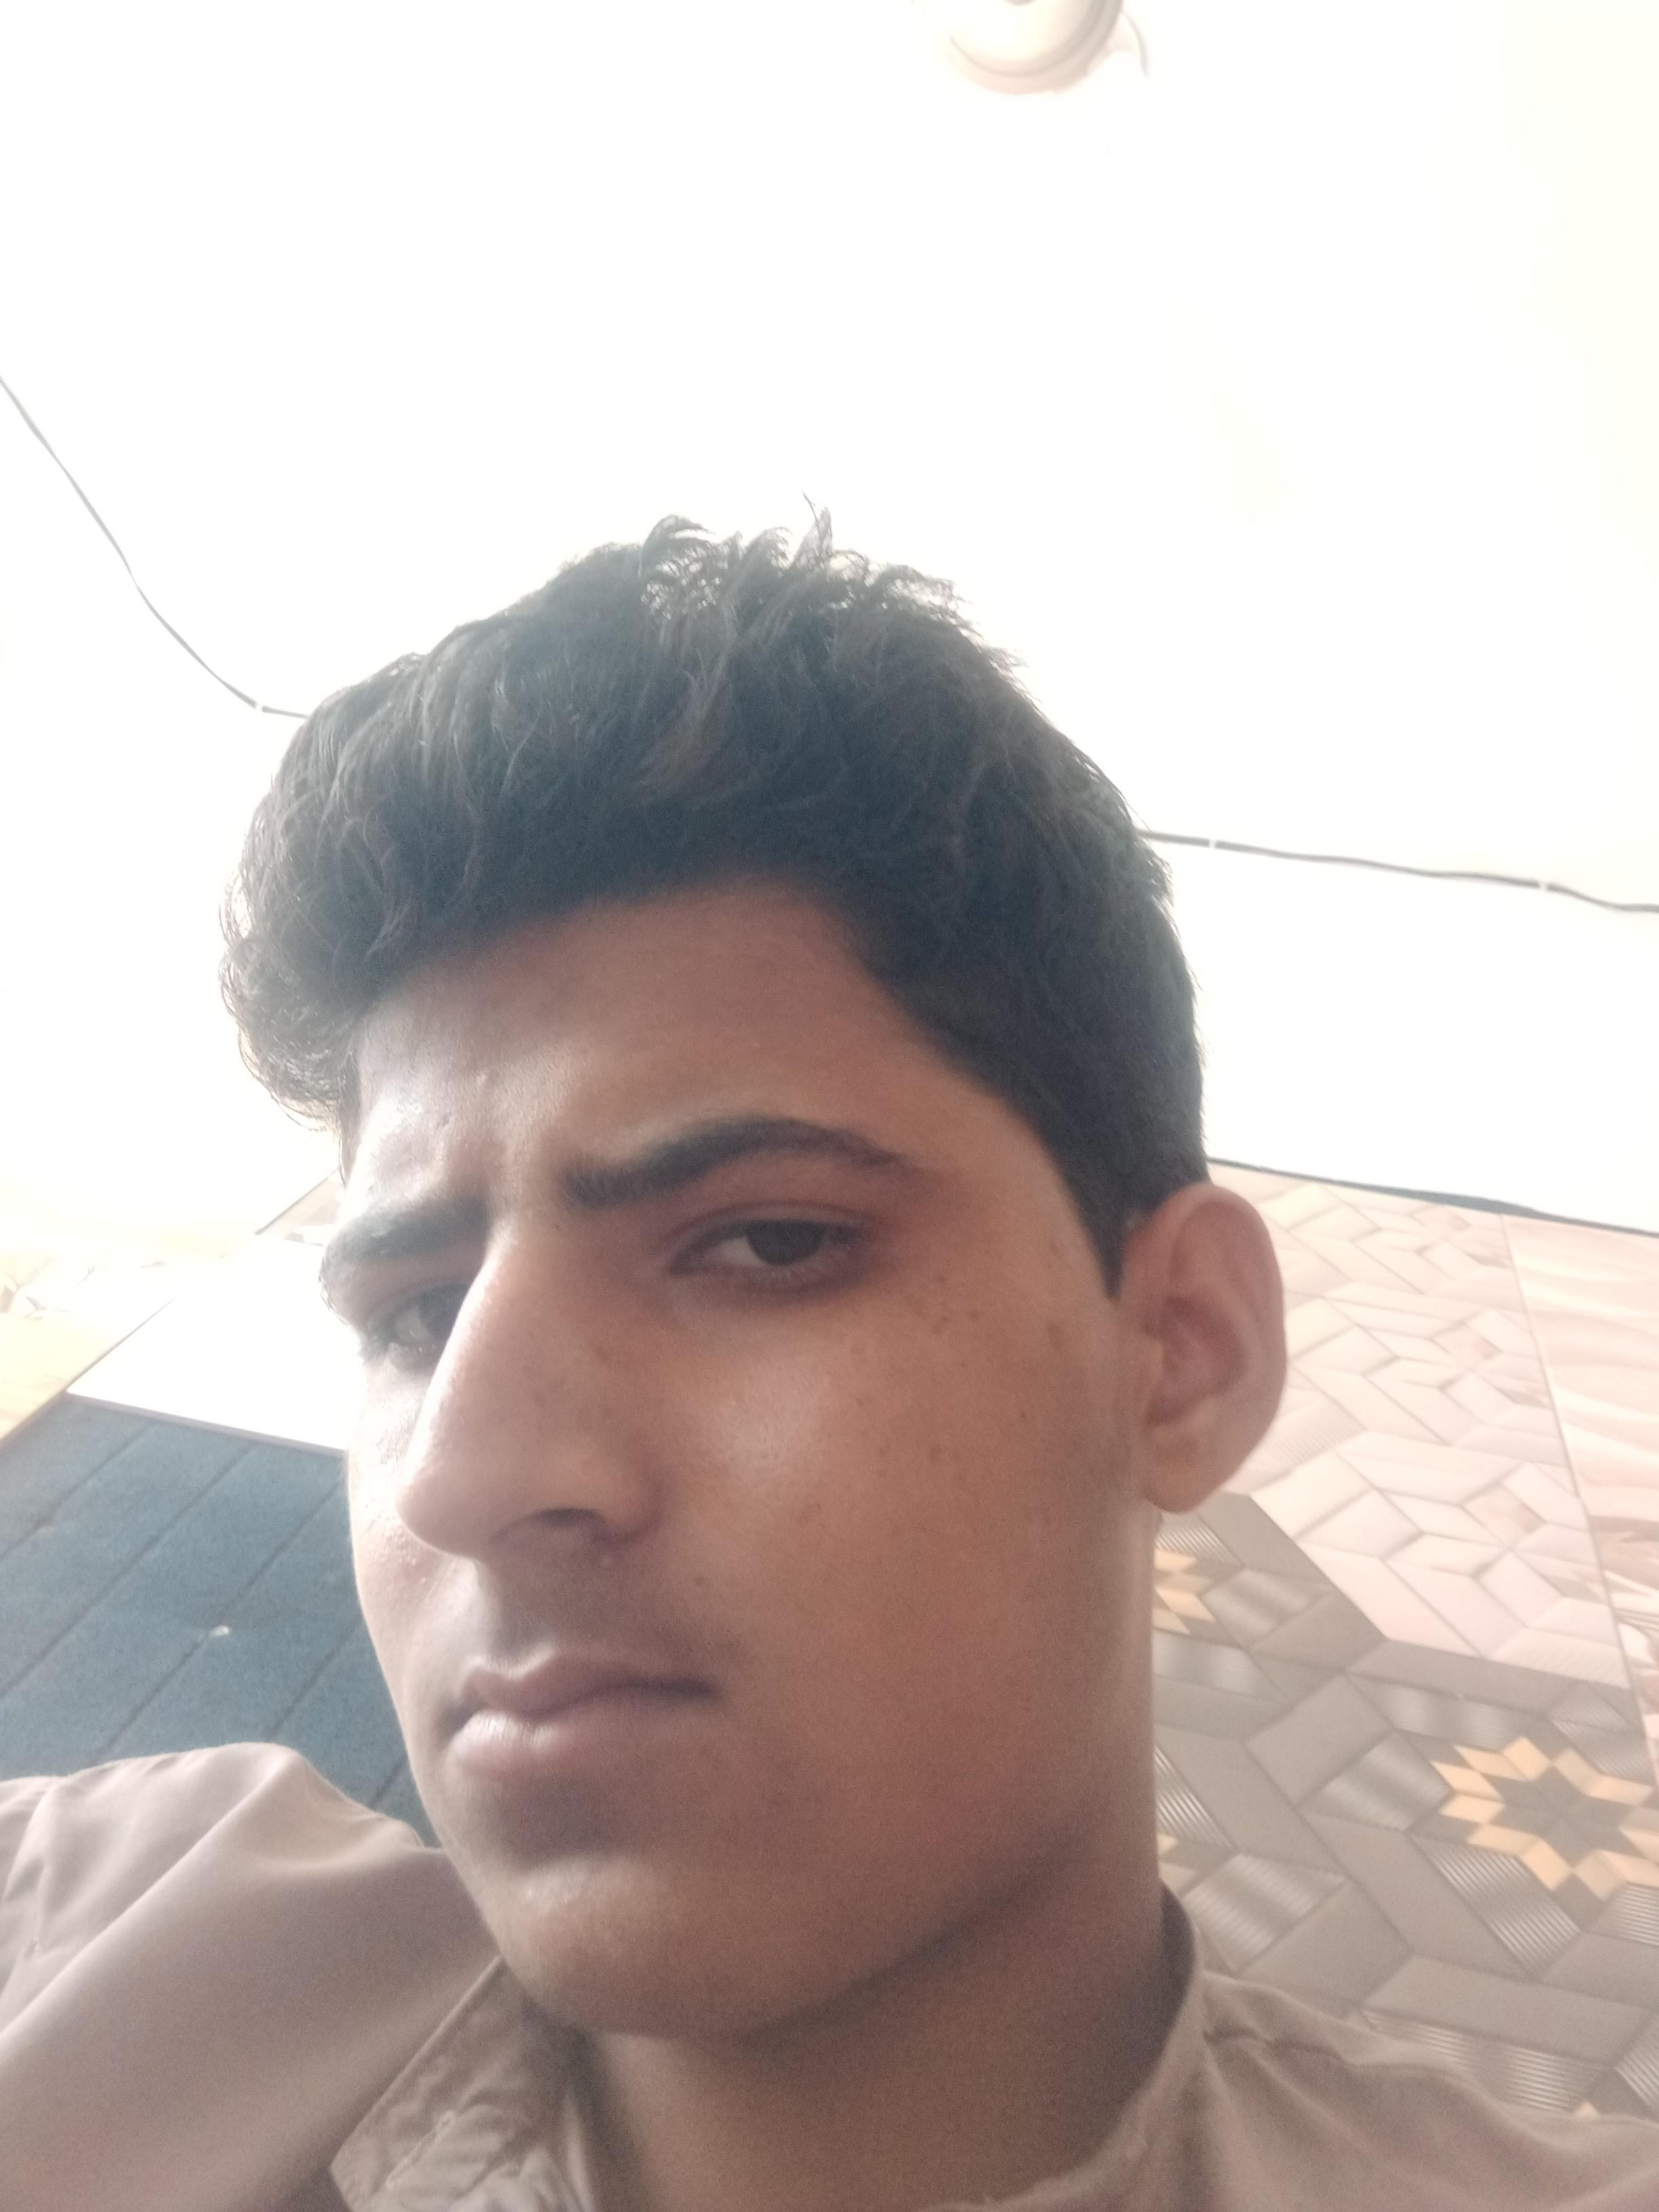Acne: (924, 1264, 983, 1341), (915, 1437, 969, 1487), (378, 1554, 434, 1599), (1030, 1233, 1086, 1273), (1037, 1308, 1086, 1353), (584, 1543, 627, 1592), (718, 1378, 765, 1414), (810, 1359, 845, 1395), (350, 1177, 383, 1207)
